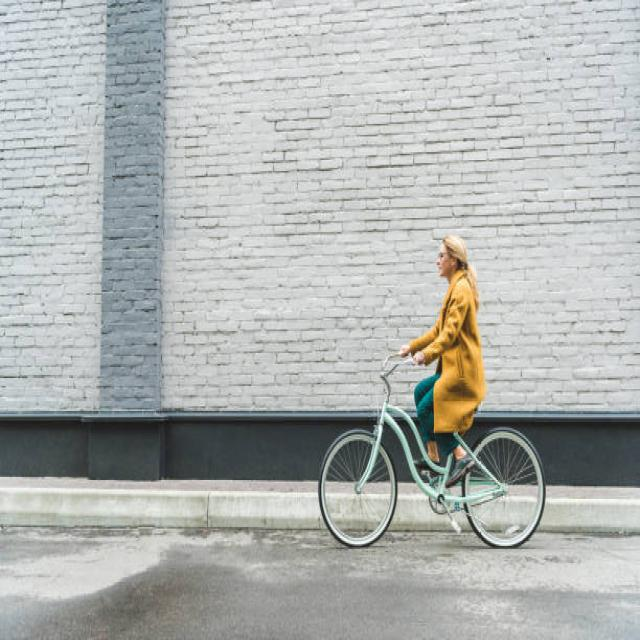bicycle: (319, 236, 545, 548)
